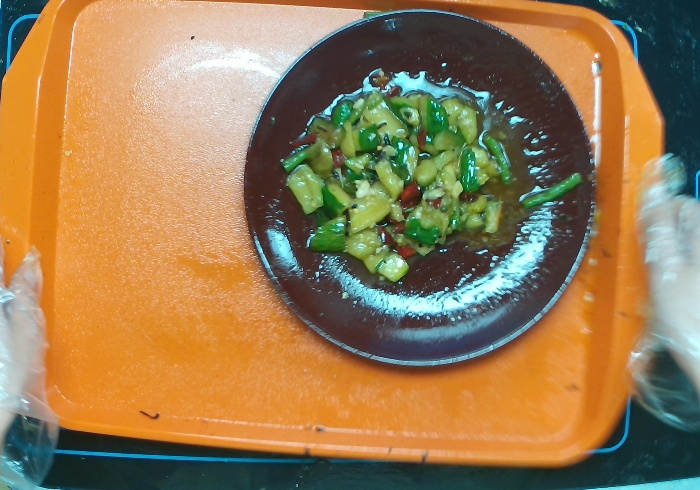HZYJPL-Ka_Fei_Yuan_Pan: (243, 5, 596, 367)
